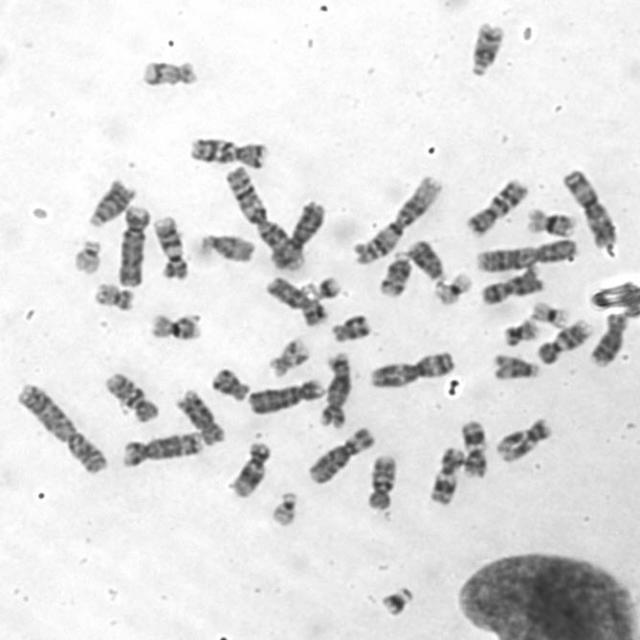A1: (348, 172, 445, 266), (222, 162, 304, 273)
A2: (12, 378, 110, 477), (472, 234, 578, 272)
A3: (560, 165, 617, 248), (366, 347, 456, 390)
B4: (245, 374, 325, 416), (114, 201, 153, 287)
B5: (118, 428, 204, 468), (316, 349, 353, 428)
C10: (101, 367, 162, 425), (363, 449, 398, 511)
C11: (425, 444, 465, 506), (456, 418, 490, 479)
C12: (494, 414, 553, 464), (226, 438, 274, 499)
C6: (268, 198, 334, 273), (304, 424, 378, 486)
C7: (461, 174, 530, 238), (186, 134, 268, 169)
C8: (173, 386, 227, 446), (586, 309, 628, 368)
C9: (534, 315, 595, 365), (150, 212, 192, 281)
D13: (84, 176, 137, 228), (404, 236, 446, 282)
D14: (466, 19, 505, 79), (375, 249, 412, 299)
D15: (196, 229, 256, 263), (488, 350, 541, 382)
E16: (144, 309, 205, 343), (522, 204, 579, 238)
E17: (139, 56, 200, 88), (265, 335, 310, 378)
E18: (208, 363, 252, 403), (328, 310, 373, 344)
F19: (431, 269, 474, 307), (529, 298, 571, 328)
F20: (91, 280, 137, 312), (500, 317, 540, 348)
G21: (375, 582, 417, 618), (311, 272, 342, 300)
G22: (70, 236, 105, 275), (267, 487, 300, 527)
X: (263, 273, 329, 328), (476, 263, 546, 304)
